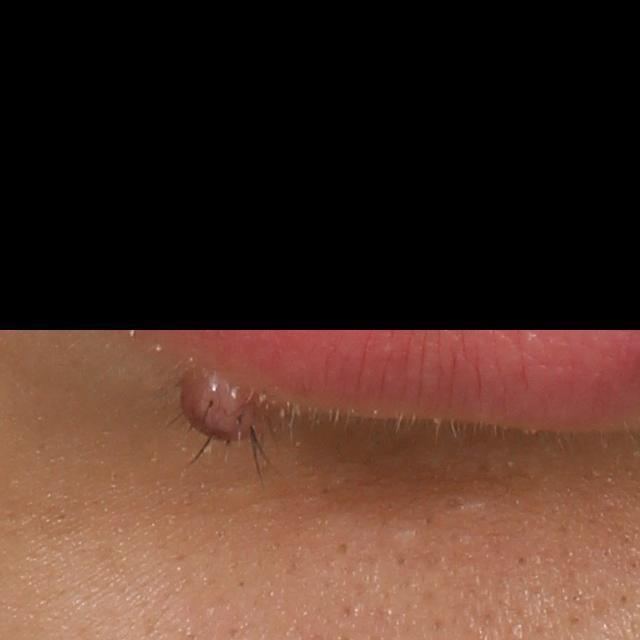comedo: (437, 490, 473, 518)
other: (170, 361, 278, 453)
